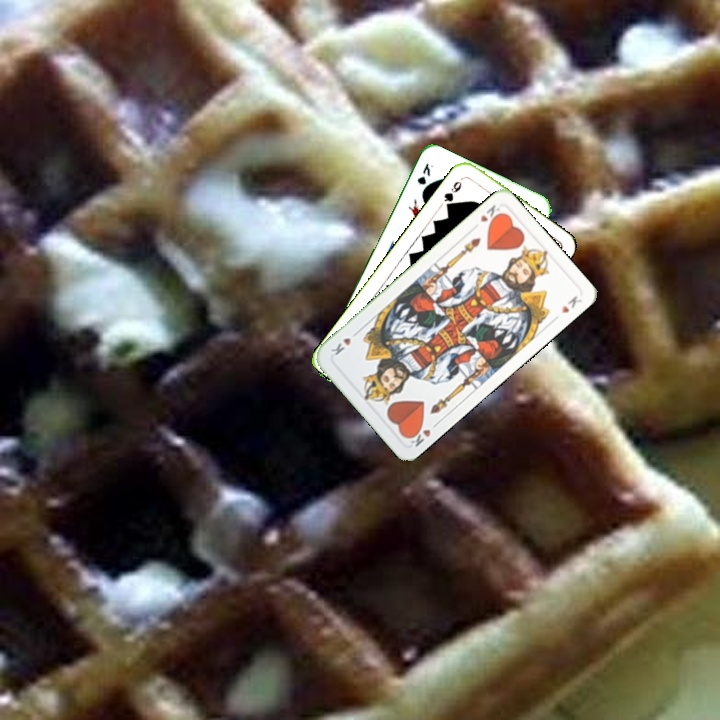G9: (439, 177, 465, 211)
GK: (413, 159, 436, 187)
HK: (403, 418, 441, 449), (476, 200, 506, 228)
